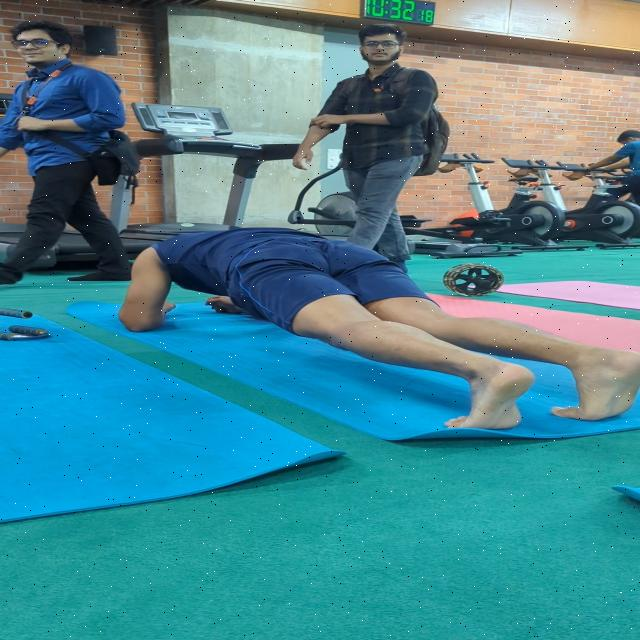Normal_Plunk: (126, 220, 640, 441)
